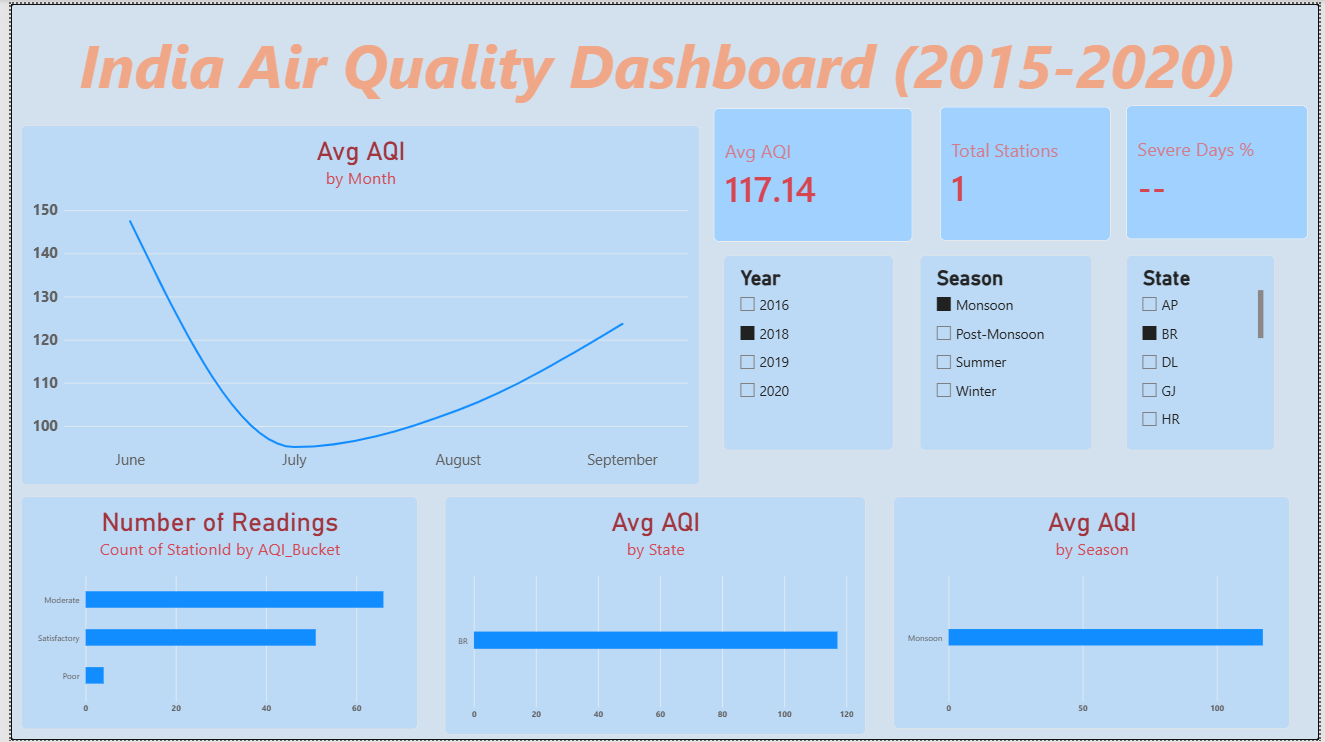

This screenshot's page, from the dashboard's own definition file:
{"tool":"powerbi","page":{"name":"Page 1","canvas":[1920,1080],"ordinal":0},"visuals":[{"type":"cardVisual","fields":{"Data":["station_day_clean.Avg AQI"]},"box":[1030.8,152.2,292.3,197.6],"z":0},{"type":"cardVisual","fields":{"Data":["station_day_clean.Total Stations"]},"box":[1362.8,150.4,251.1,197.6],"z":1000},{"type":"cardVisual","fields":{"Data":["station_day_clean.Severe Days %"]},"box":[1636.1,148.6,267.6,197.6],"z":2000},{"type":"lineChart","fields":{"Category":["station_day_clean.Date.Variation.Date Hierarchy.Year","station_day_clean.Date.Variation.Date Hierarchy.Month"],"Y":["station_day_clean.Avg AQI"]},"box":[14.7,177.9,996,528.3],"z":3000},{"type":"clusteredBarChart","fields":{"Category":["station_day_clean.State"],"Y":["station_day_clean.Avg AQI"]},"box":[636,722.5,617.5,349.9],"z":4000},{"type":"clusteredBarChart","title":"Number of Readings","fields":{"Category":["station_day_clean.AQI_Bucket"],"Y":["CountNonNull(station_day_clean.StationId)"]},"box":[14.4,722.5,582.5,341.7],"z":5000},{"type":"clusteredBarChart","fields":{"Category":["station_day_clean.Season"],"Y":["station_day_clean.Avg AQI"]},"box":[1295,722.7,581.5,341.2],"z":6000},{"type":"slicer","fields":{"Values":["station_day_clean.Year"]},"box":[1045.5,368.7,249.5,286.1],"z":7000},{"type":"slicer","fields":{"Values":["station_day_clean.State"]},"box":[1636.1,368.7,218.3,286.1],"z":8000},{"type":"slicer","fields":{"Values":["station_day_clean.Season"]},"box":[1333.5,368.7,253.1,286.1],"z":9000},{"type":"textbox","box":[14.4,26.8,1869,150.3],"z":10000}]}

Visuals, with their boxes in screenshot pixels (x1, y1, x2, y2), scaled from the page's 1920x1080 canvas onto the 1325x742 screenshot:
cardVisual - station_day_clean.Avg AQI: box(711, 105, 913, 240)
cardVisual - station_day_clean.Total Stations: box(940, 103, 1114, 239)
cardVisual - station_day_clean.Severe Days %: box(1129, 102, 1314, 238)
lineChart - station_day_clean.Date.Variation.Date Hierarchy.Year x station_day_clean.Date.Variation.Date Hierarchy.Month: box(10, 122, 697, 485)
clusteredBarChart - station_day_clean.State x station_day_clean.Avg AQI: box(439, 496, 865, 737)
"Number of Readings" clusteredBarChart: box(10, 496, 412, 731)
clusteredBarChart - station_day_clean.Season x station_day_clean.Avg AQI: box(894, 497, 1295, 731)
slicer - station_day_clean.Year: box(722, 253, 894, 450)
slicer - station_day_clean.State: box(1129, 253, 1280, 450)
slicer - station_day_clean.Season: box(920, 253, 1095, 450)
textbox: box(10, 18, 1300, 122)
